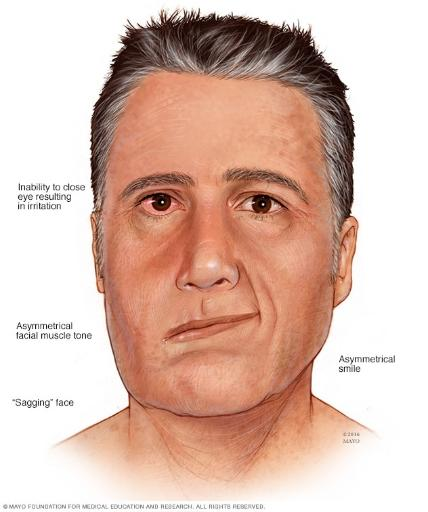left_eye: (233, 192, 291, 220)
left_lip_corner: (247, 308, 262, 323)
right_eye: (135, 191, 186, 216)
right_lip_corner: (160, 330, 179, 347)
